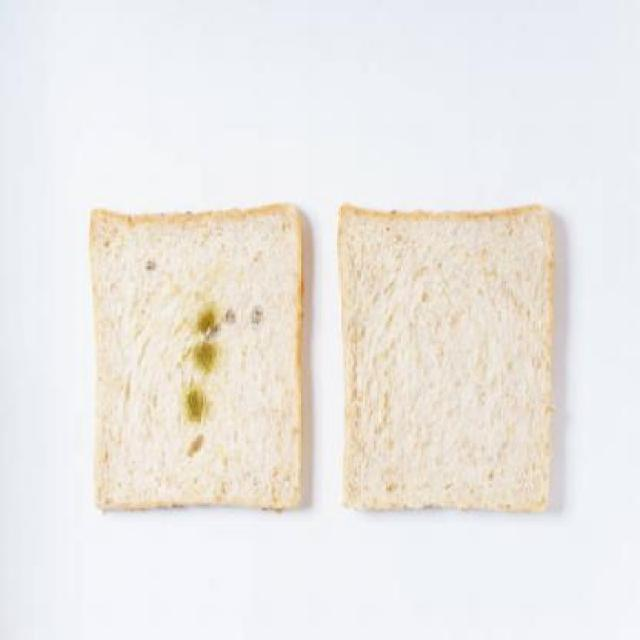mold_bread: (184, 337, 220, 376), (176, 385, 210, 422), (192, 303, 222, 335), (183, 433, 210, 458)
